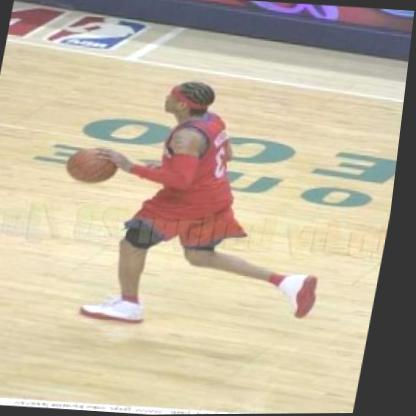basketball: (62, 140, 132, 192)
